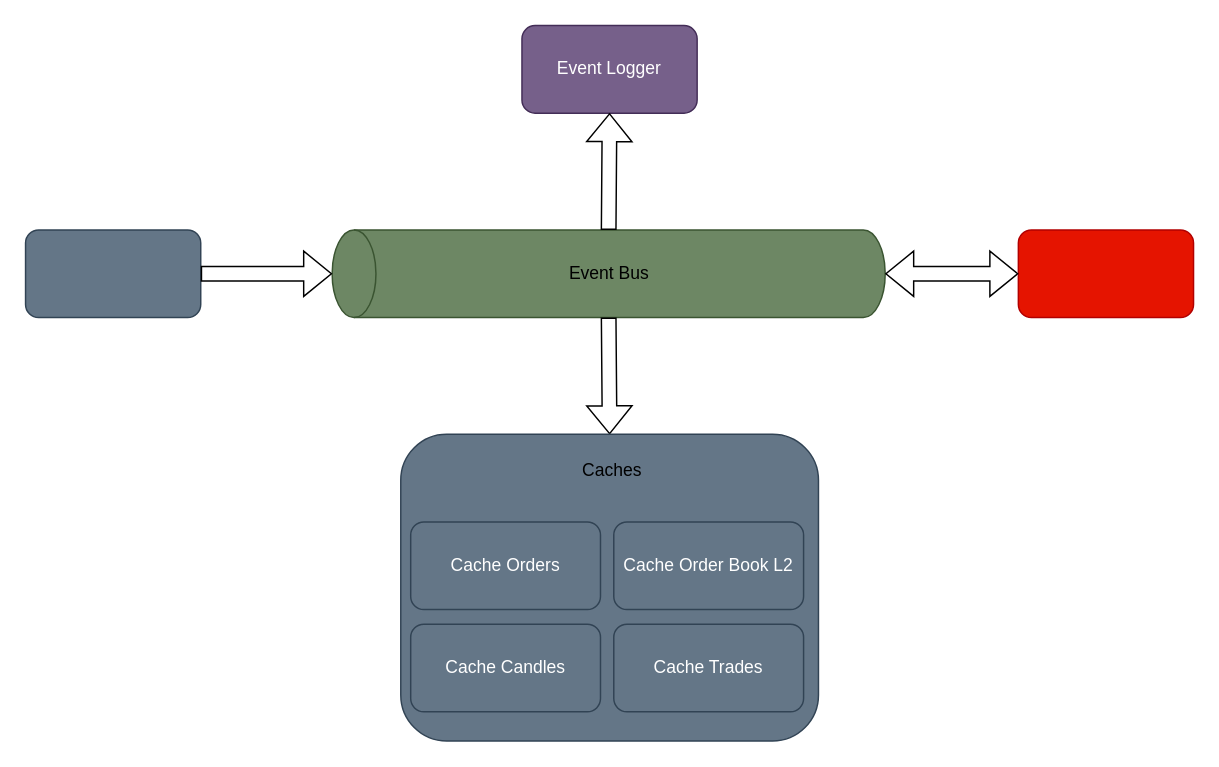
This 1219x767 diagram has some shape labels left out. The box of each missing label's shape, as (x1, y1, x2, y2) in pixels:
Engine: (1017, 228, 1194, 318)
REST Server: (24, 228, 201, 318)
